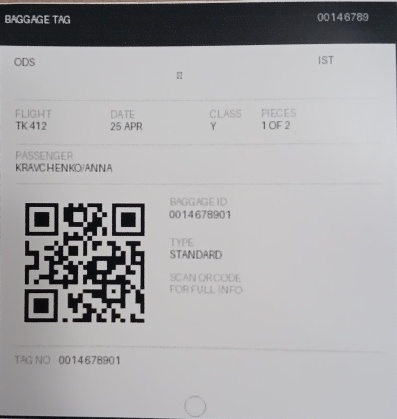LPN_bottom: (55, 350, 123, 367)
LPN_right: (166, 206, 236, 222)
